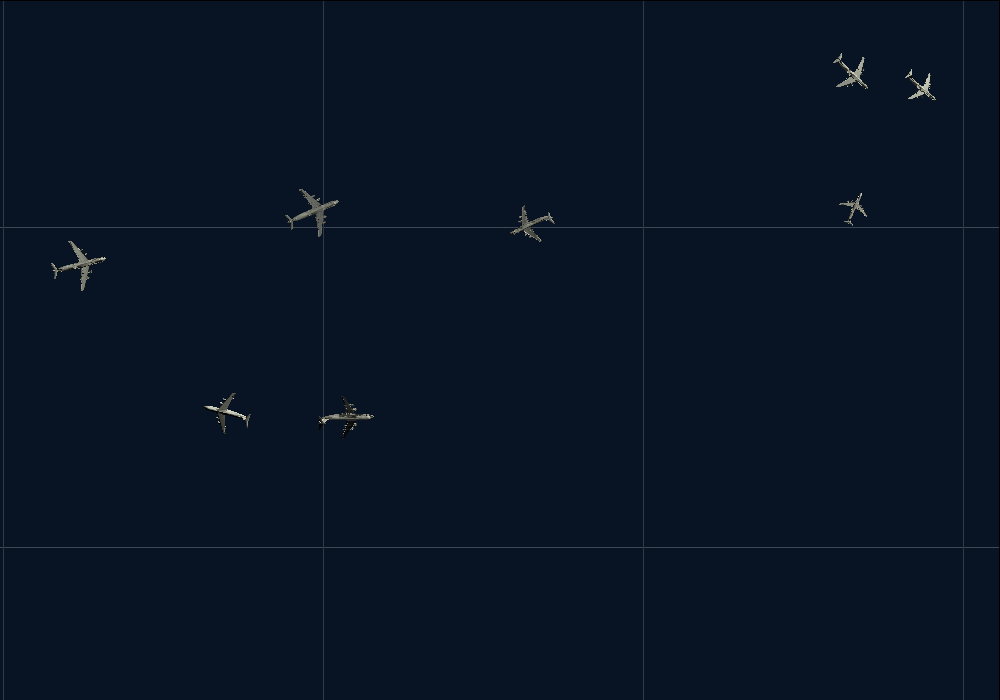plane: (276, 176, 348, 246), (44, 232, 112, 297), (821, 41, 883, 103), (499, 195, 561, 255), (197, 385, 256, 442), (894, 59, 949, 113), (316, 393, 373, 445), (833, 186, 877, 231)
